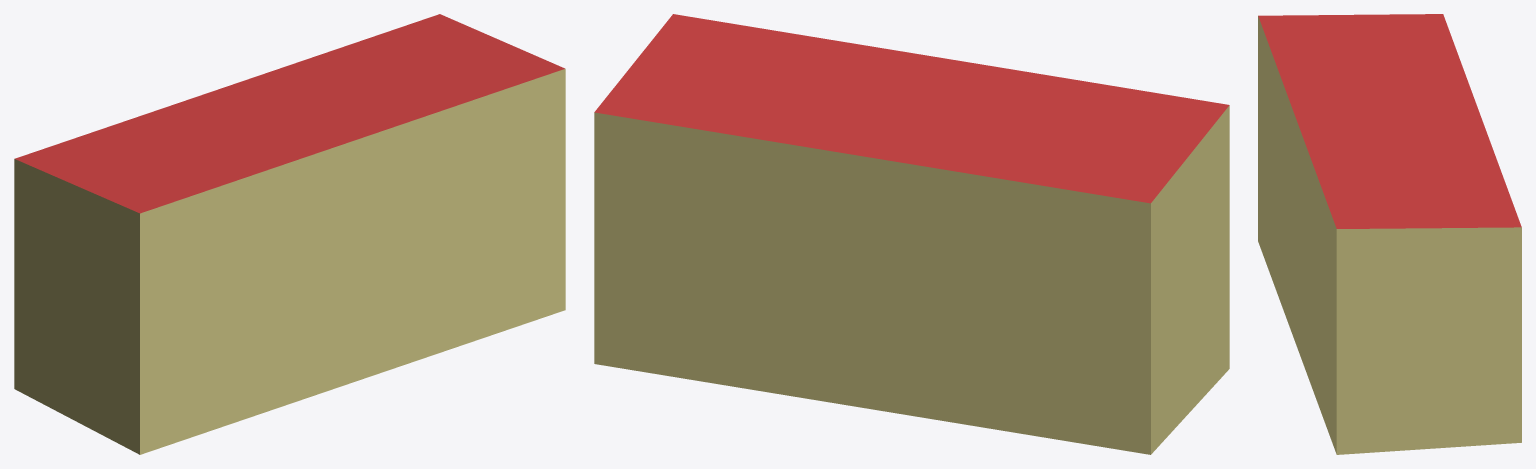
3 views of the same model, side by side, from view 1: azimuth 30°, elevation 25°; view 2: azimuth 150°, elevation 25°; view 3: azimuth 270°, elevation 25° (orthographic). The views are drawn at different scales.
Size of the model in its own units: 10.21 by 5.04 by 4.77.
